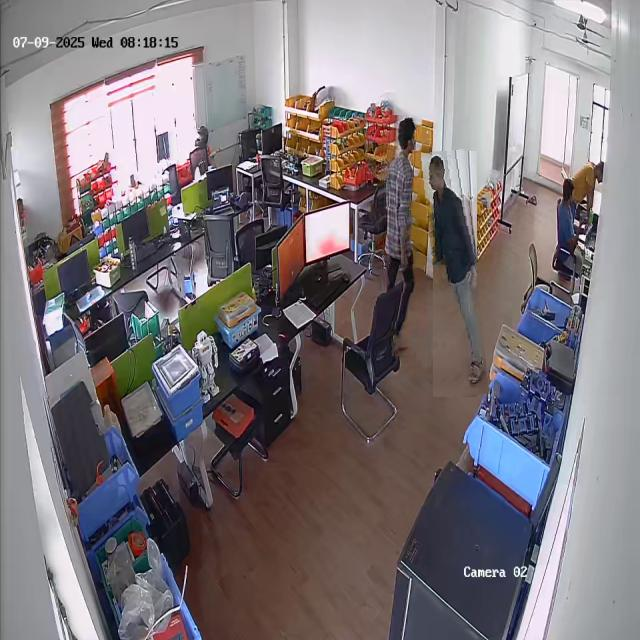person: (427, 150, 484, 398), (377, 115, 420, 356), (559, 178, 581, 272)
